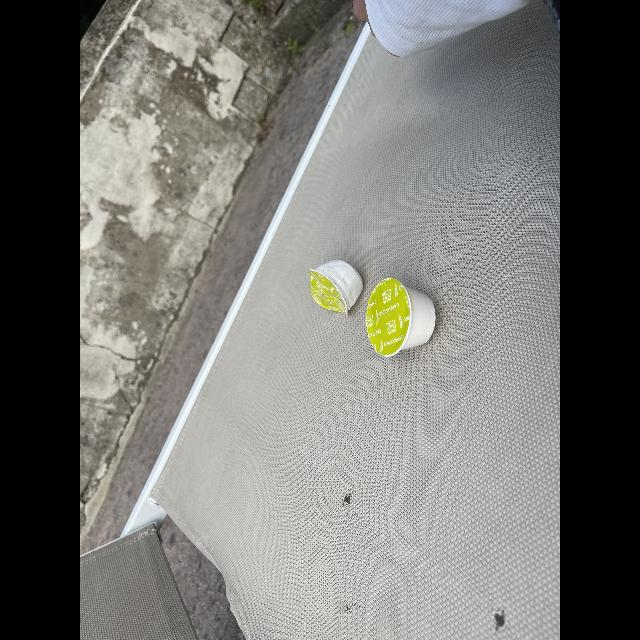damaged_capsule: (306, 257, 366, 317)
intact_capsule: (365, 276, 439, 358)
